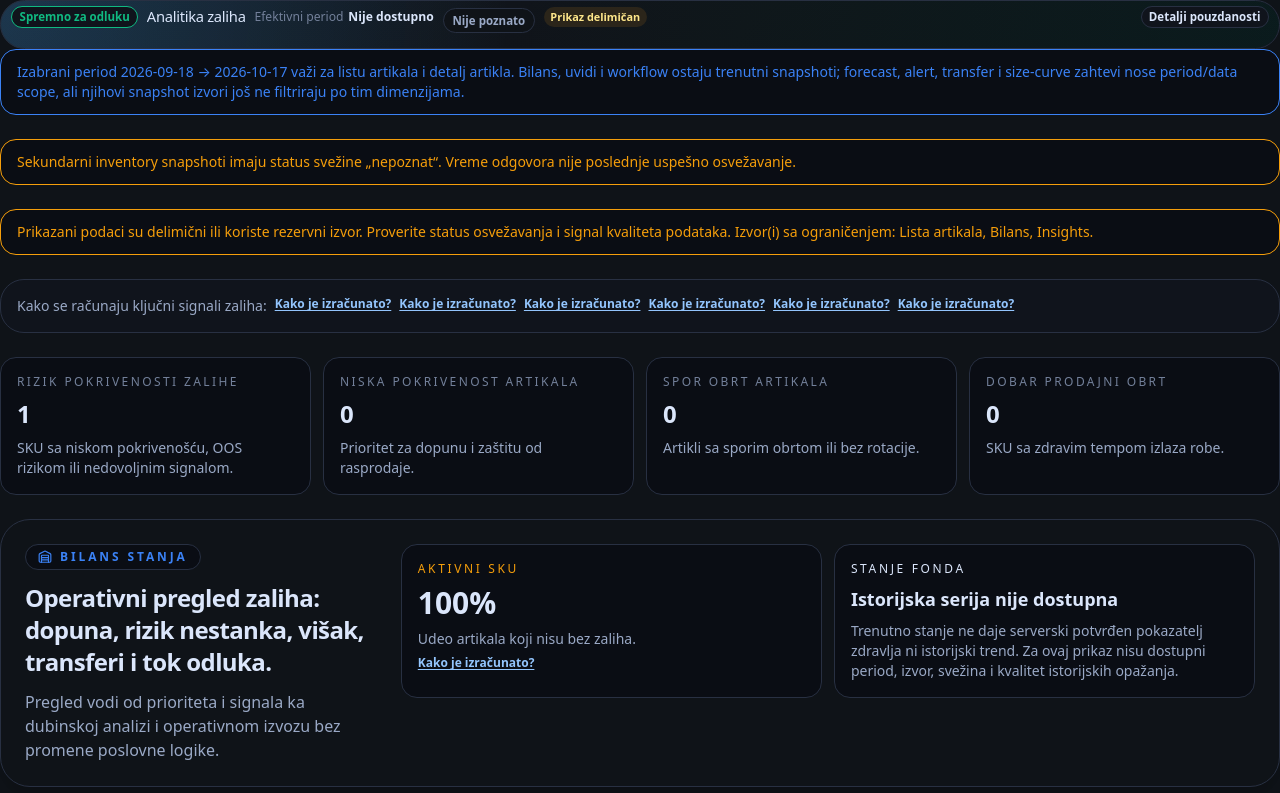
analytics trust-state header proof › Inventory mounts the shared trust header and exposes fail-closed state
Expected: the element named "Kontekst pouzdanosti analitike" is shown, [0, 0, 1279, 49]
Click the button with test id "analytics-trust-details-toggle" at (1205, 17), box [1141, 6, 1269, 28]
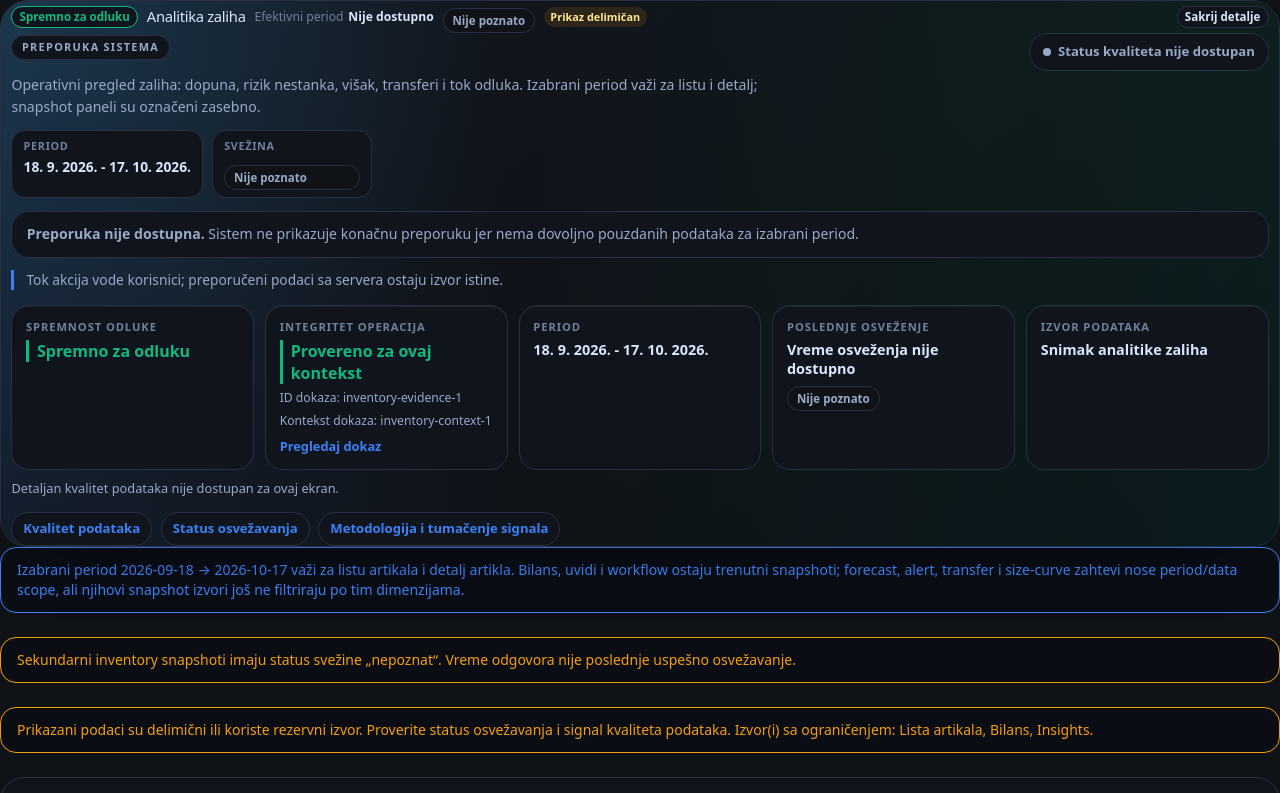
Expected: the text with test id "analytics-trust-readiness-state" reads "Spremno za odluku", [37, 340, 190, 362]
Expected: the text with test id "analytics-trust-integrity-state" reads "Provereno za ovaj kontekst", [291, 340, 432, 384]
